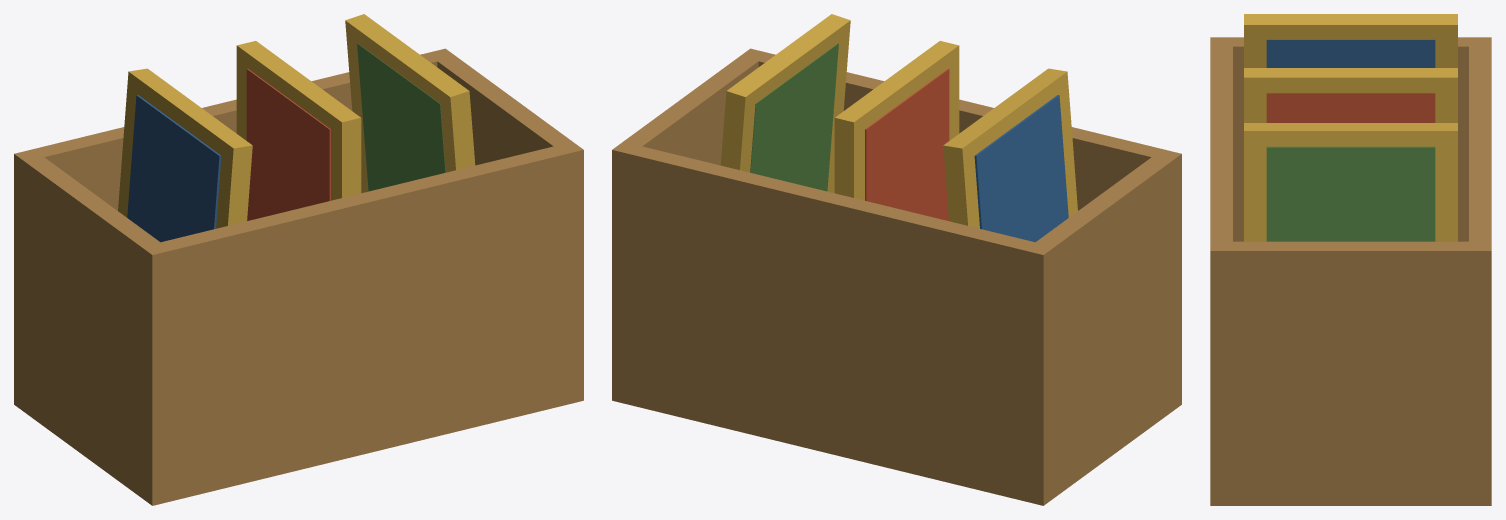
The model's file is paintings_box.glb.
The picture shows the model from 3 angles, left to right: view 1: azimuth 30°, elevation 25°; view 2: azimuth 150°, elevation 25°; view 3: azimuth 270°, elevation 25°; orthographic projection.
Visible parts, largest first — view 1: side_crate_wood, canvas, frames_frame_gilt, bottom_crate_wood; view 2: side_crate_wood, canvas, frames_frame_gilt, bottom_crate_wood; view 3: side_crate_wood, canvas, frames_frame_gilt, bottom_crate_wood.
Boxes of the visible parts, box(x1,y1,x2,y2) form: side_crate_wood: box(14, 48, 583, 505); canvas: box(127, 43, 445, 242); frames_frame_gilt: box(118, 14, 475, 228); bottom_crate_wood: box(14, 380, 583, 505); side_crate_wood: box(612, 48, 1181, 505); canvas: box(750, 43, 1068, 242); frames_frame_gilt: box(720, 14, 1077, 228); bottom_crate_wood: box(612, 380, 1181, 505); side_crate_wood: box(1210, 37, 1491, 505); canvas: box(1266, 39, 1435, 241); frames_frame_gilt: box(1244, 14, 1457, 241); bottom_crate_wood: box(1210, 485, 1491, 505).
Bounding box in the file's own units: 0.9 × 0.6406 × 0.5.
